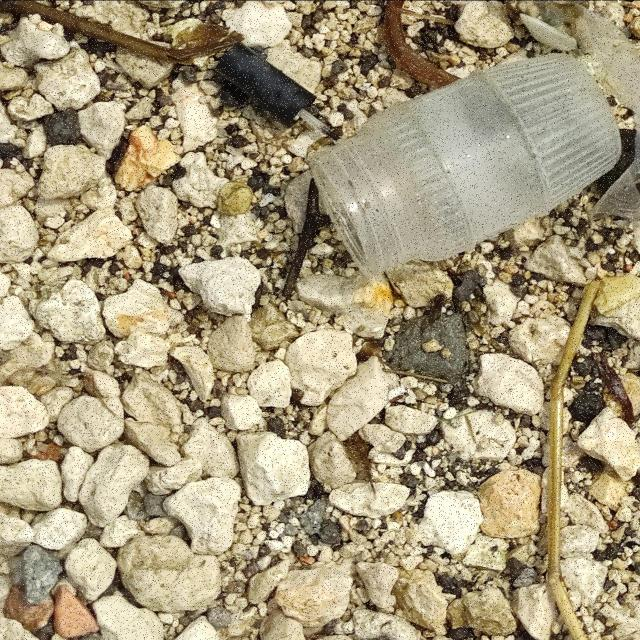plastic_waste: (307, 52, 625, 280)
